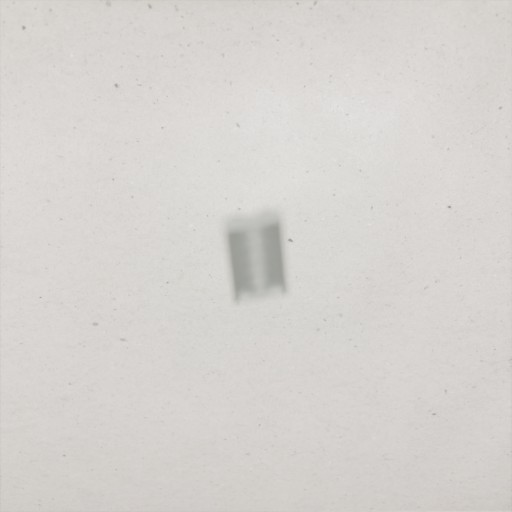lego: (221, 208, 289, 305)
